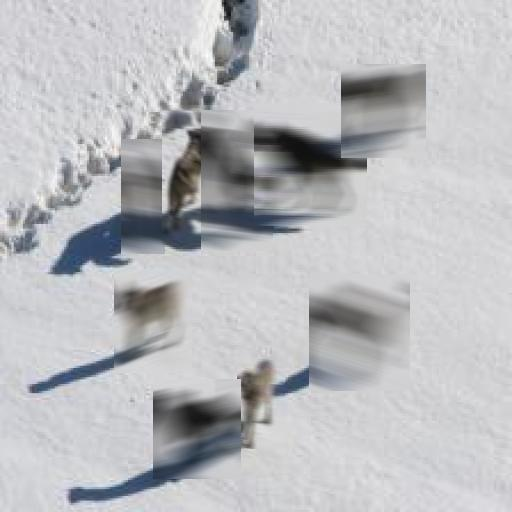wolf: (254, 103, 367, 226), (309, 274, 410, 391), (201, 110, 273, 251), (153, 379, 241, 479), (114, 270, 192, 374), (341, 64, 426, 158), (162, 105, 210, 245), (121, 139, 165, 254), (238, 357, 286, 458)
